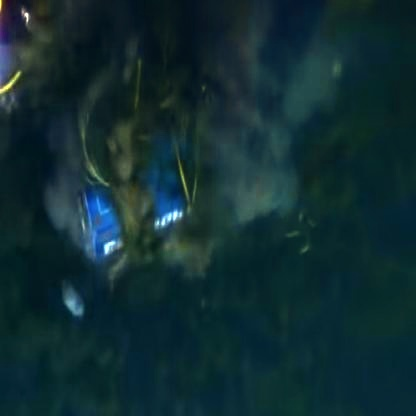can: (66, 157, 206, 264)
